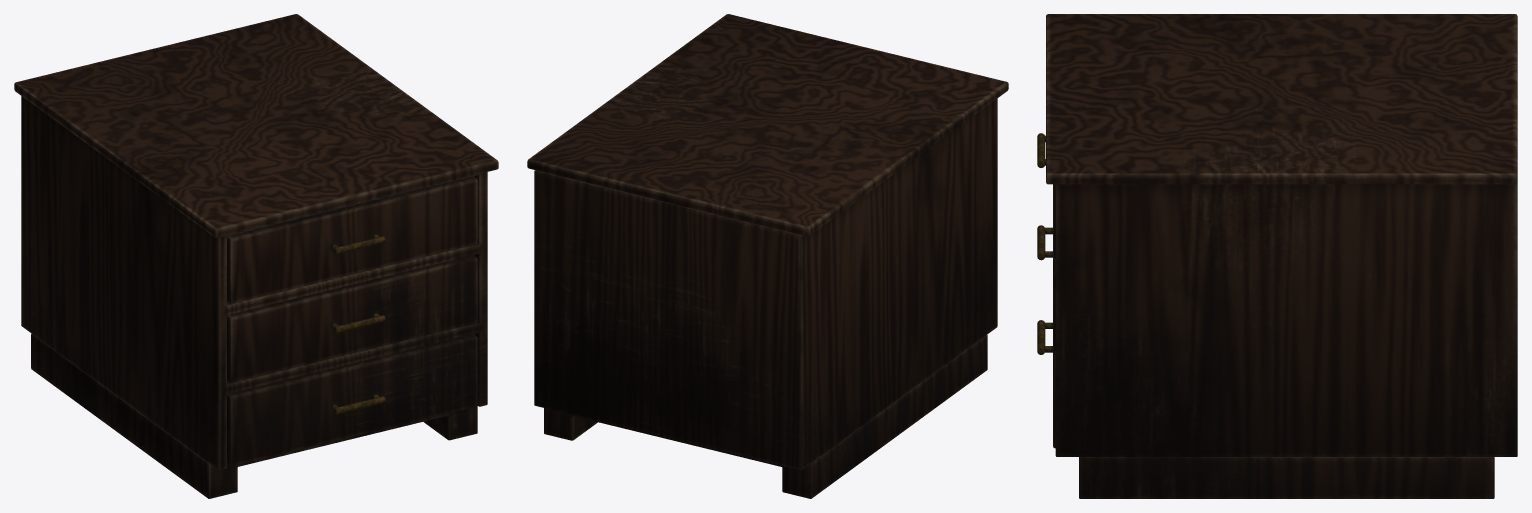
File: attic_commode_b.glb
3 renders of one model, left to right at view 1: azimuth 30°, elevation 25°; view 2: azimuth 150°, elevation 25°; view 3: azimuth 270°, elevation 25°, orthographic. The views are drawn at different scales.
Visible parts, largest first — view 1: Body, Drawer0, Drawer1, Drawer2, Drawer2Pull, Drawer1Pull; view 2: Body; view 3: Body.
Boxes of the visible parts, x1=… form: Body: x1=14, y1=14, x2=498, y2=498; Drawer0: x1=227, y1=334, x2=477, y2=466; Drawer1: x1=227, y1=255, x2=477, y2=382; Drawer2: x1=227, y1=176, x2=477, y2=303; Drawer2Pull: x1=328, y1=231, x2=385, y2=254; Drawer1Pull: x1=328, y1=310, x2=385, y2=333; Body: x1=527, y1=14, x2=1008, y2=498; Body: x1=1046, y1=14, x2=1517, y2=498.
Size of the model in its own units: 0.58 by 0.55 by 0.728.
Materials: 7 (7 with a texture image).
